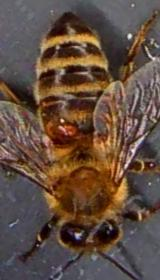varroa_mite: (48, 116, 80, 143)
